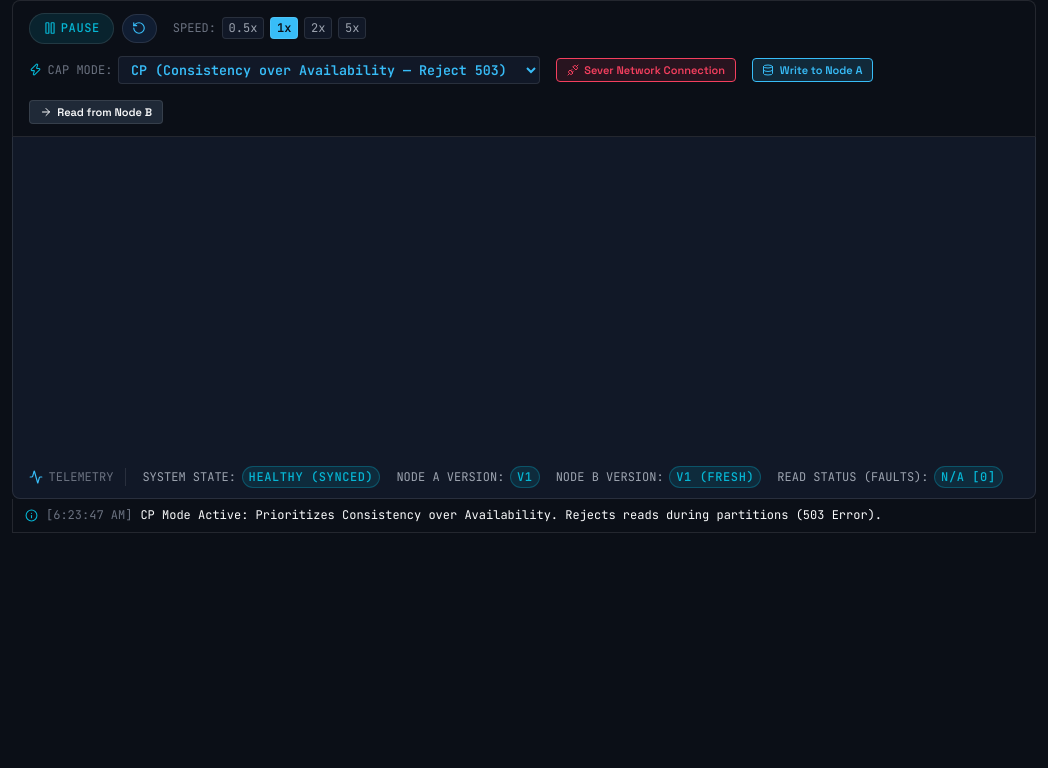
Test: CapTheoremVisualizer (Catalog Viz #5) › handles Write to Node A and Read from Node B when healthy
The width and height of the screenshot is (1048, 768).
Click the button "Write to Node A": (812, 70) top-left (752, 58), bottom-right (873, 82)
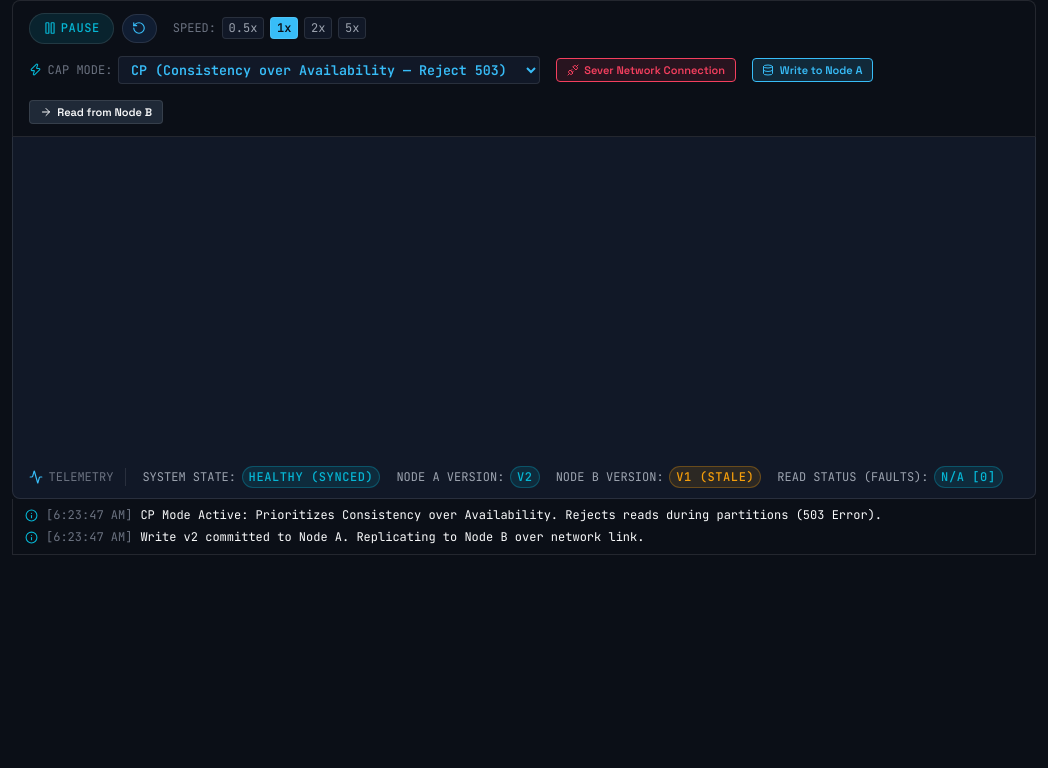
Now the text "Write v2 committed to Node A" is shown, box top-left (140, 529), bottom-right (644, 545)
Click the button "Read from Node B": (96, 112) top-left (29, 100), bottom-right (163, 124)
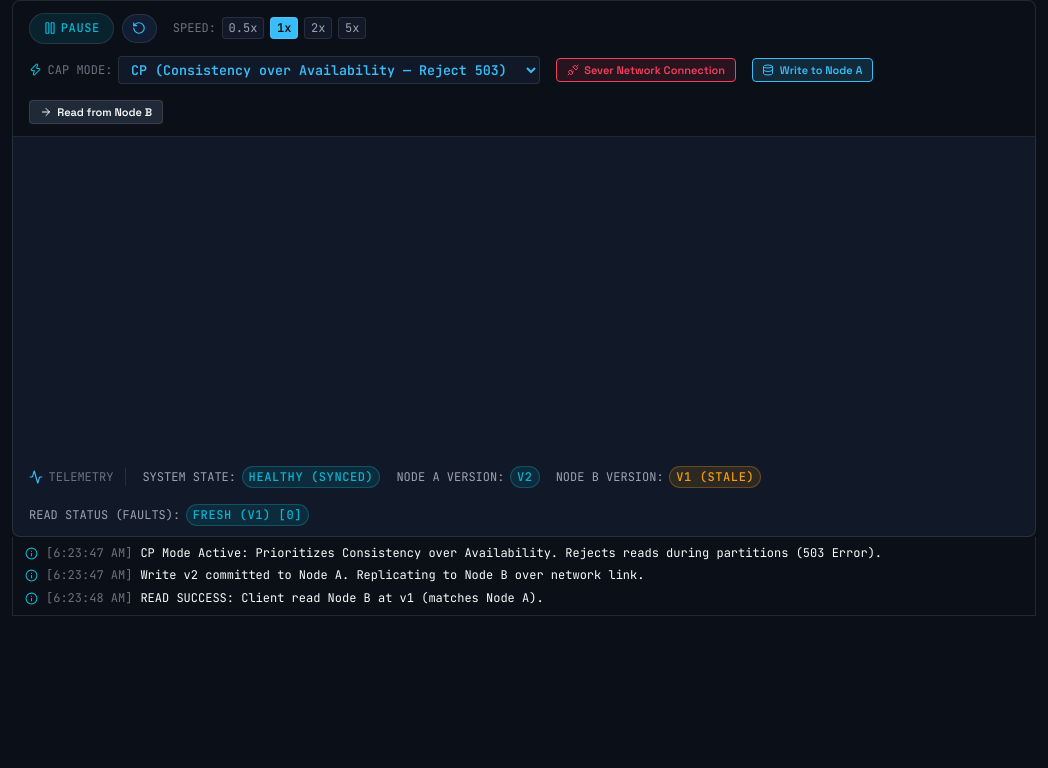
Now the text "READ SUCCESS: Client read Node B at v1 (matches Node A)." is shown, box top-left (140, 590), bottom-right (544, 607)
